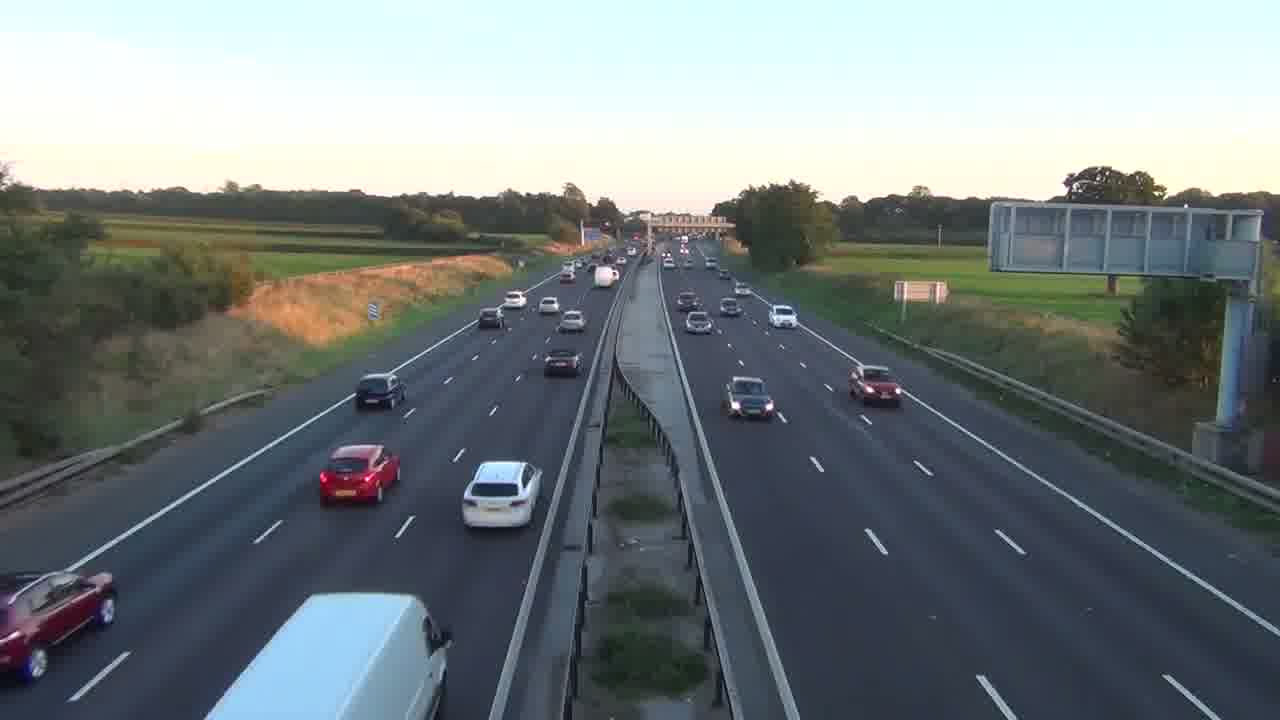car: (0, 568, 117, 682), (461, 460, 544, 530), (318, 443, 401, 505), (722, 376, 775, 420), (848, 364, 902, 407), (355, 372, 407, 409), (543, 348, 581, 377), (684, 311, 715, 335), (478, 306, 503, 330), (718, 296, 744, 317)
